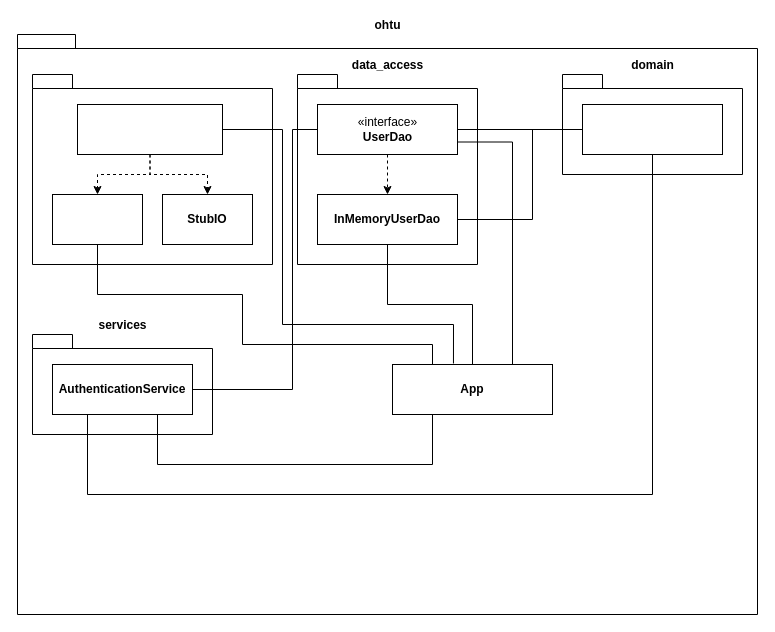
Image size: 775x632. Some labels were removed from this diagram. Each missing label, with the box of its shape:
ConsoleIO: (52, 194, 142, 244)
io: (32, 74, 272, 264)
User: (582, 104, 722, 154)
«interface» IO: (76, 104, 222, 154)
